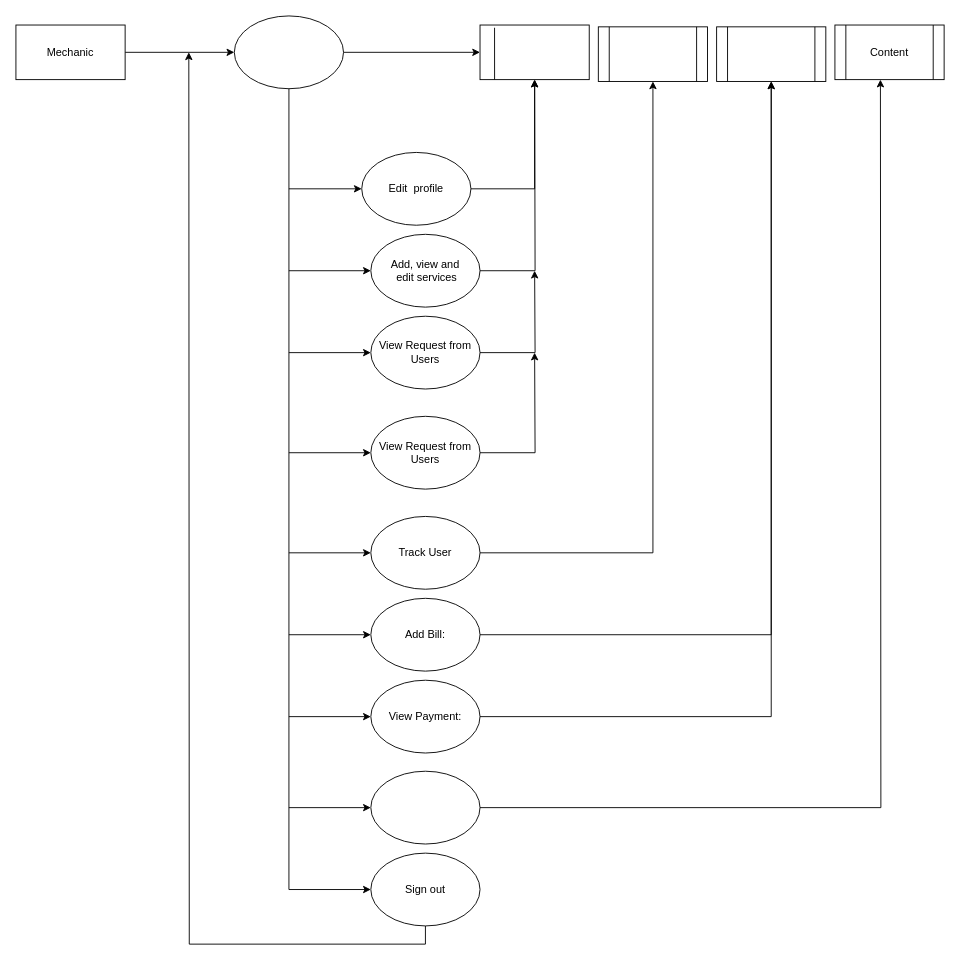
This 960x967 diagram has some shape labels left out. The shapes that lost their labels are listed below. From the top down, each one's centre as x and y in pixels, then its label:
At [288,52]: "Login/Register".
At [534,52]: "Mechanic DB".
At [652,53]: "User".
At [771,53]: "Payment".
At [425,807]: "View Rating".
